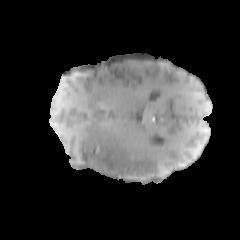glioma: (82, 134, 191, 180)
